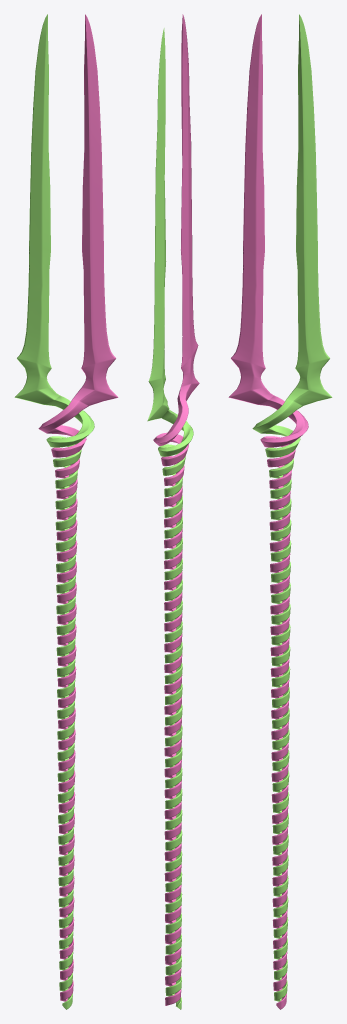
Rendered from longinus.fbx.
The picture shows the model from 3 angles, left to right: view 1: azimuth 90°, elevation 25°; view 2: azimuth 150°, elevation 25°; view 3: azimuth 270°, elevation 25°; orthographic projection.
Visible parts, largest first — view 1: Spear_of_Longinus_2021_6_4; view 2: Spear_of_Longinus_2021_6_4; view 3: Spear_of_Longinus_2021_6_4.
Boxes of the visible parts, x1=… form: Spear_of_Longinus_2021_6_4: x1=14, y1=14, x2=118, y2=1009; Spear_of_Longinus_2021_6_4: x1=147, y1=14, x2=199, y2=1009; Spear_of_Longinus_2021_6_4: x1=228, y1=14, x2=332, y2=1009.
Size of the model in its own units: 3.14 by 9.25 by 97.29.
